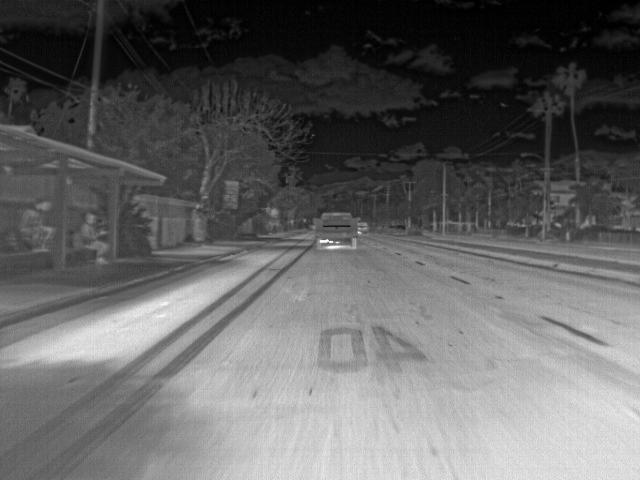car: (312, 210, 358, 247), (354, 218, 371, 236)
person: (20, 196, 46, 253), (82, 214, 110, 263), (45, 199, 56, 250)
